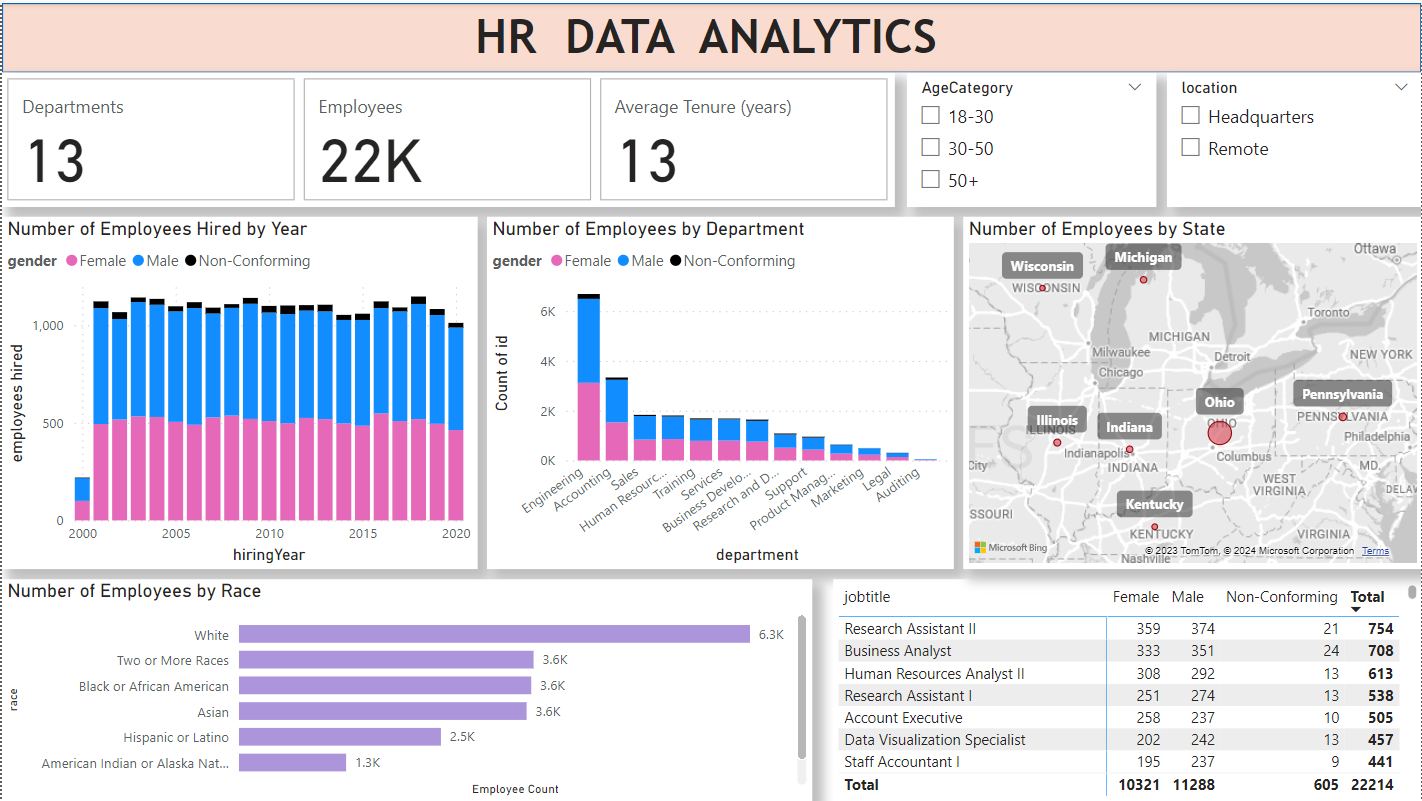

The page's visual inventory and layout, read from the dashboard file:
{"tool":"powerbi","page":{"name":"Dashboard","canvas":[1280,720],"ordinal":0},"visuals":[{"type":"shape","box":[0,0,1280.2,62.8],"z":0},{"type":"textbox","box":[420.9,0,437.2,62.8],"z":1000},{"type":"cardVisual","title":"vgf","fields":{"Data":["Count(HR-Data-csv.department)","CountNonNull(HR-Data-csv.id)","Avg(HR-Data-csv.Tenure)"]},"box":[0,62.8,804.7,120.9],"z":1001},{"type":"slicer","fields":{"Values":["HR-Data-csv.AgeCategory"]},"box":[816.3,62.8,224.4,120.9],"z":1002},{"type":"slicer","fields":{"Values":["HR-Data-csv.location"]},"box":[1050,62.8,230.2,120.9],"z":1003},{"type":"columnChart","title":"Number of Employees Hired by Year","fields":{"Series":["HR-Data-csv.gender"],"Category":["HR-Data-csv.hiringYear"],"Y":["CountNonNull(HR-Data-csv.id)"]},"box":[0,193,429.1,317.4],"z":1004},{"type":"columnChart","title":"Number of Employees by Department","fields":{"Category":["HR-Data-csv.department"],"Y":["CountNonNull(HR-Data-csv.id)"],"Series":["HR-Data-csv.gender"]},"box":[437.2,193,420.9,317.4],"z":1005},{"type":"clusteredBarChart","title":"Number of Employees by Race","fields":{"Category":["HR-Data-csv.race"],"Y":["CountNonNull(HR-Data-csv.id)"]},"box":[0,519.8,730.2,200],"z":1006},{"type":"pivotTable","fields":{"Rows":["HR-Data-csv.jobtitle"],"Values":["CountNonNull(HR-Data-csv.id)"],"Columns":["HR-Data-csv.gender"]},"box":[748.8,519.8,531.4,200],"z":1007},{"type":"map","title":"Number of Employees by State","fields":{"Category":["HR-Data-csv.location_state"],"Size":["CountNonNull(HR-Data-csv.id)"]},"box":[866.3,193,414,317.4],"z":1008}]}

Visuals, with their boxes in screenshot pixels (x1, y1, x2, y2), scaled from the page's 1280x720 canvas onto the 1422x801 screenshot:
shape: (0,0,1421,70)
textbox: (468,0,953,70)
"vgf" cardVisual: (0,70,894,204)
slicer - HR-Data-csv.AgeCategory: (907,70,1156,204)
slicer - HR-Data-csv.location: (1166,70,1421,204)
"Number of Employees Hired by Year" columnChart: (0,215,477,568)
"Number of Employees by Department" columnChart: (486,215,953,568)
"Number of Employees by Race" clusteredBarChart: (0,578,811,800)
pivotTable - HR-Data-csv.jobtitle x CountNonNull(HR-Data-csv.id): (832,578,1421,800)
"Number of Employees by State" map: (962,215,1421,568)
